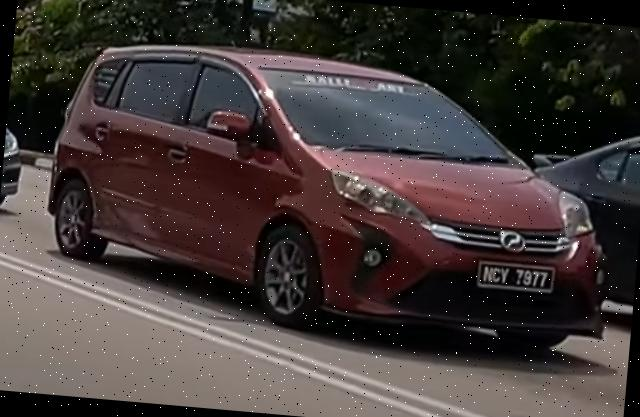License_Plate: (475, 258, 557, 296)
car: (38, 32, 627, 359)
